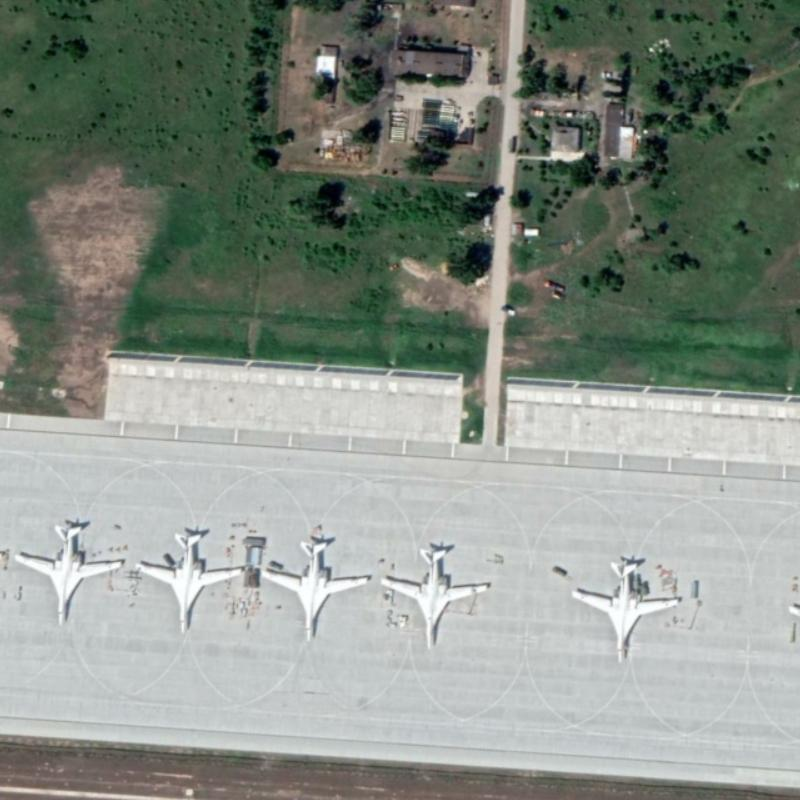A6: (8, 516, 128, 629), (566, 557, 688, 667), (133, 528, 248, 637), (380, 544, 494, 652), (259, 535, 372, 638)
